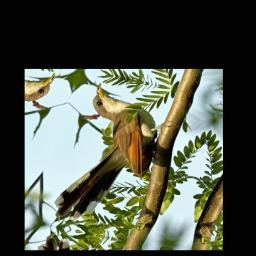Cuckoo: (49, 82, 177, 233)
